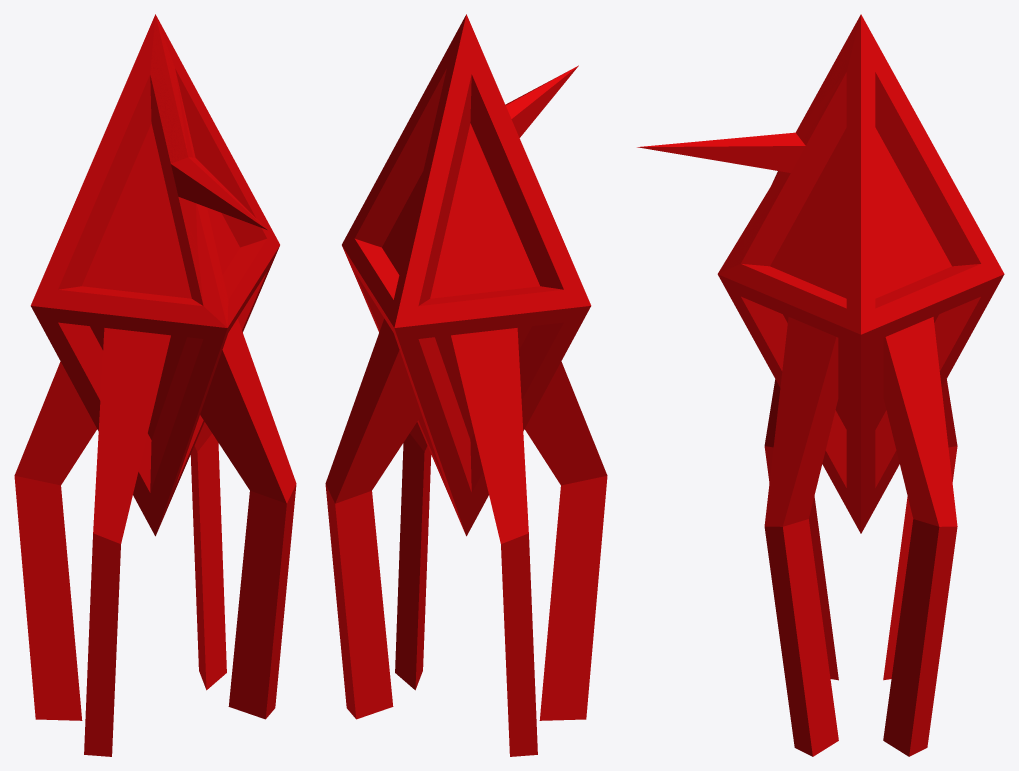
The model's file is saw enemy 1.fbx.
3 renders of one model, left to right at view 1: azimuth 30°, elevation 25°; view 2: azimuth 150°, elevation 25°; view 3: azimuth 270°, elevation 25°, orthographic.
Parts seen in each view (by area): view 1: Cone; view 2: Cone; view 3: Cone.
Boxes of the visible parts, <box> form: Cone: <box>14,14,296,756</box>; Cone: <box>325,14,607,756</box>; Cone: <box>637,14,1004,756</box>.
Size of the model in its own units: 200 by 536 by 257.
